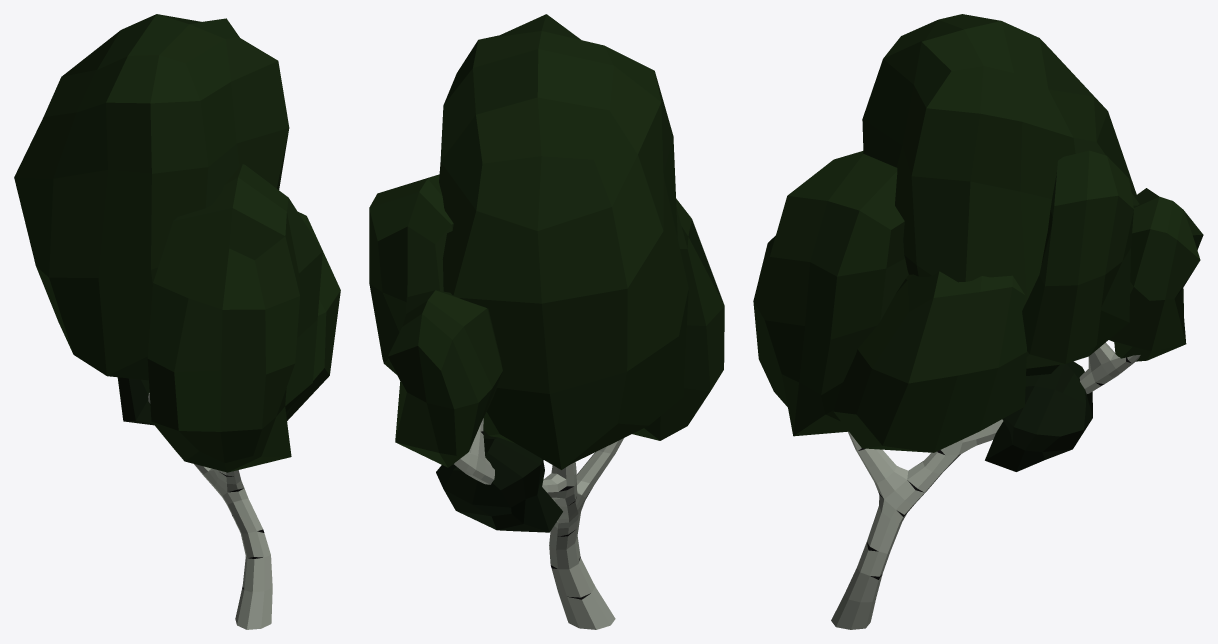
File: BirchTree_1.glb
3 views of the same model, side by side, from view 1: azimuth 30°, elevation 25°; view 2: azimuth 150°, elevation 25°; view 3: azimuth 270°, elevation 25° (orthographic). The views are drawn at different scales.
Parts seen in each view (by area): view 1: BirchTree_1_Cube; view 2: BirchTree_1_Cube; view 3: BirchTree_1_Cube.
Boxes of the visible parts, x1,y1,x2,y2 form: BirchTree_1_Cube: [14, 14, 340, 629]; BirchTree_1_Cube: [369, 14, 724, 629]; BirchTree_1_Cube: [753, 14, 1203, 629].
Size of the model in its own units: 1.7 by 3.57 by 2.48.
